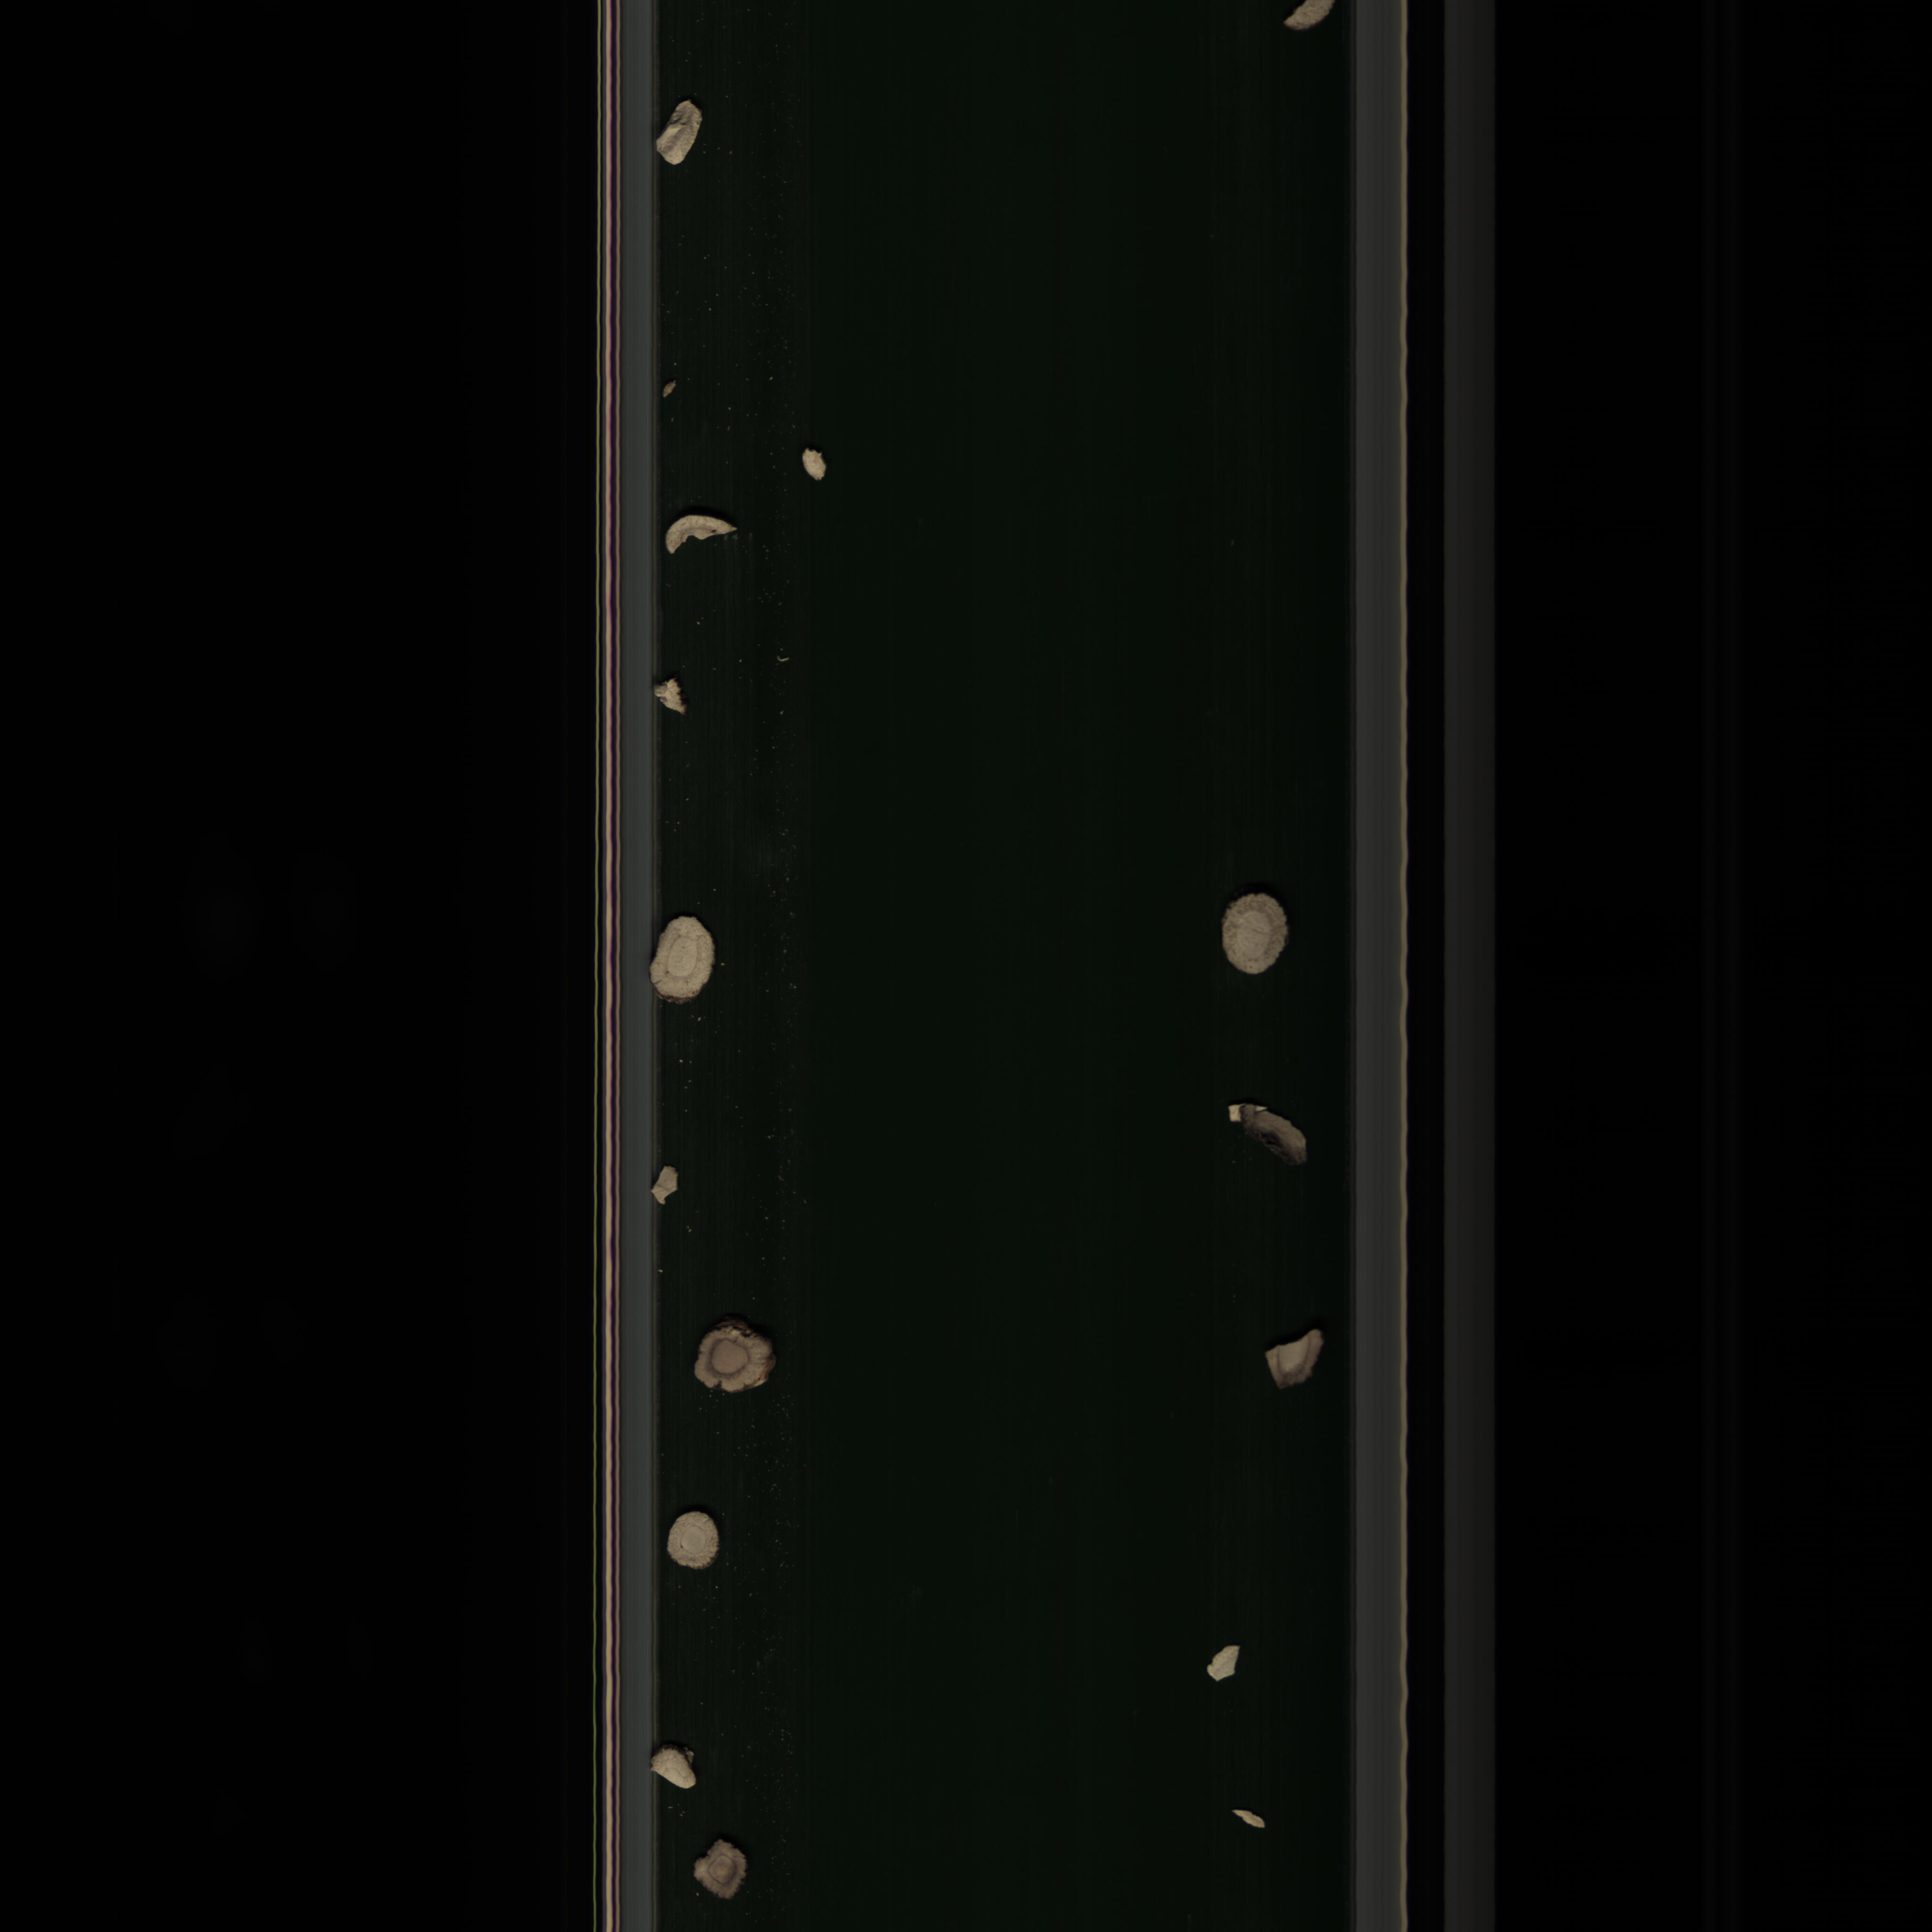bark: (1212, 1097, 1315, 1173)
debris: (1256, 1322, 1327, 1394), (655, 94, 715, 165), (660, 513, 740, 559), (1192, 1637, 1253, 1691), (649, 1746, 713, 1789), (644, 672, 692, 720), (793, 441, 837, 488), (1224, 1801, 1272, 1835)
moldy: (690, 1323, 780, 1398), (688, 1833, 752, 1907)
